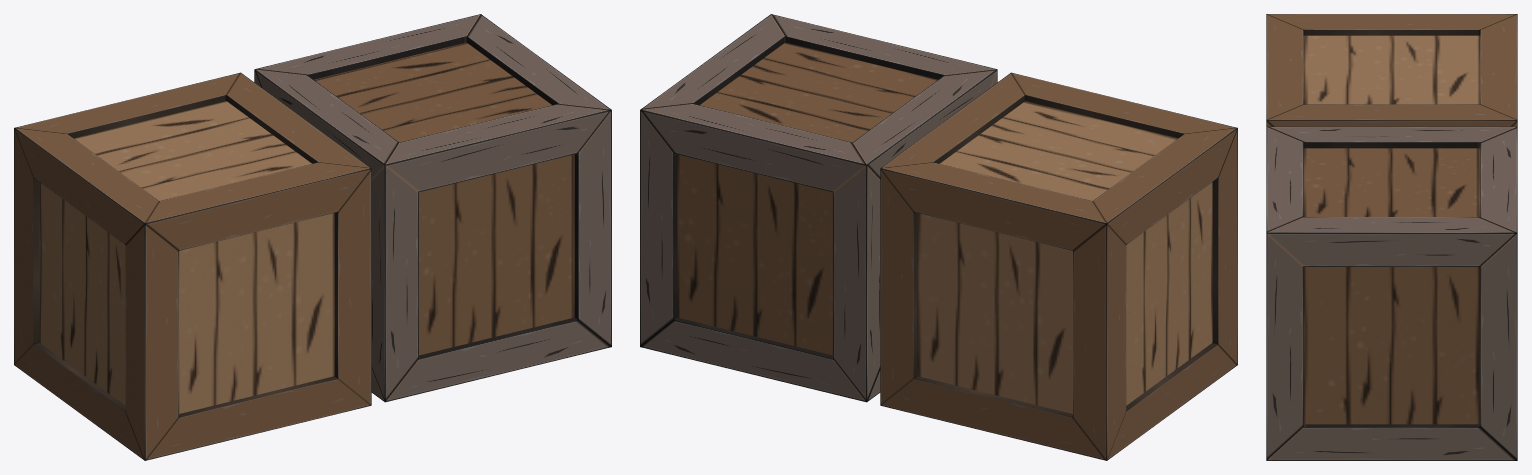
File: crate boxs.fbx
The picture shows the model from 3 angles, left to right: view 1: azimuth 30°, elevation 25°; view 2: azimuth 150°, elevation 25°; view 3: azimuth 270°, elevation 25°; orthographic projection. The views are drawn at different scales.
Visible parts, largest first — view 1: props_crate_01, props_crate_02; view 2: props_crate_01, props_crate_02; view 3: props_crate_02, props_crate_01.
Boxes of the visible parts, box(x1,y1,x2,y2) form: props_crate_01: box(14, 72, 371, 460); props_crate_02: box(254, 14, 611, 402); props_crate_01: box(880, 72, 1237, 460); props_crate_02: box(640, 14, 997, 402); props_crate_02: box(1266, 126, 1517, 460); props_crate_01: box(1266, 14, 1517, 126).
Bounding box in the file's own units: 175 × 85 × 85.
1 material, 1 textured.
